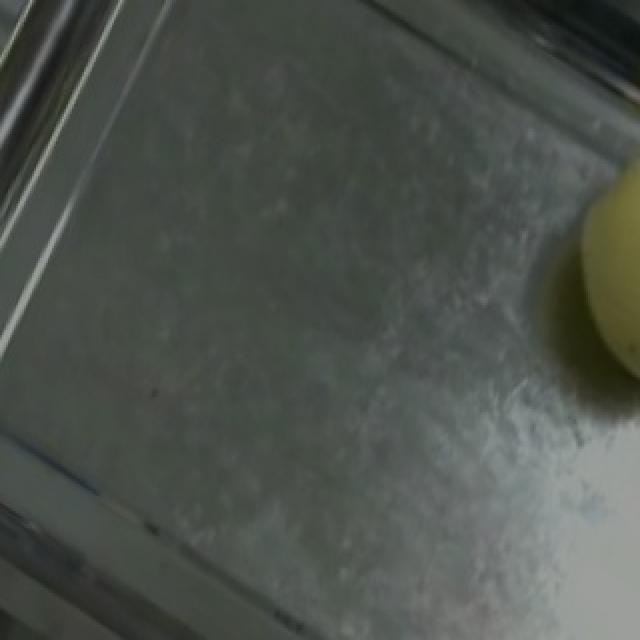Fruit: (536, 122, 640, 419)
